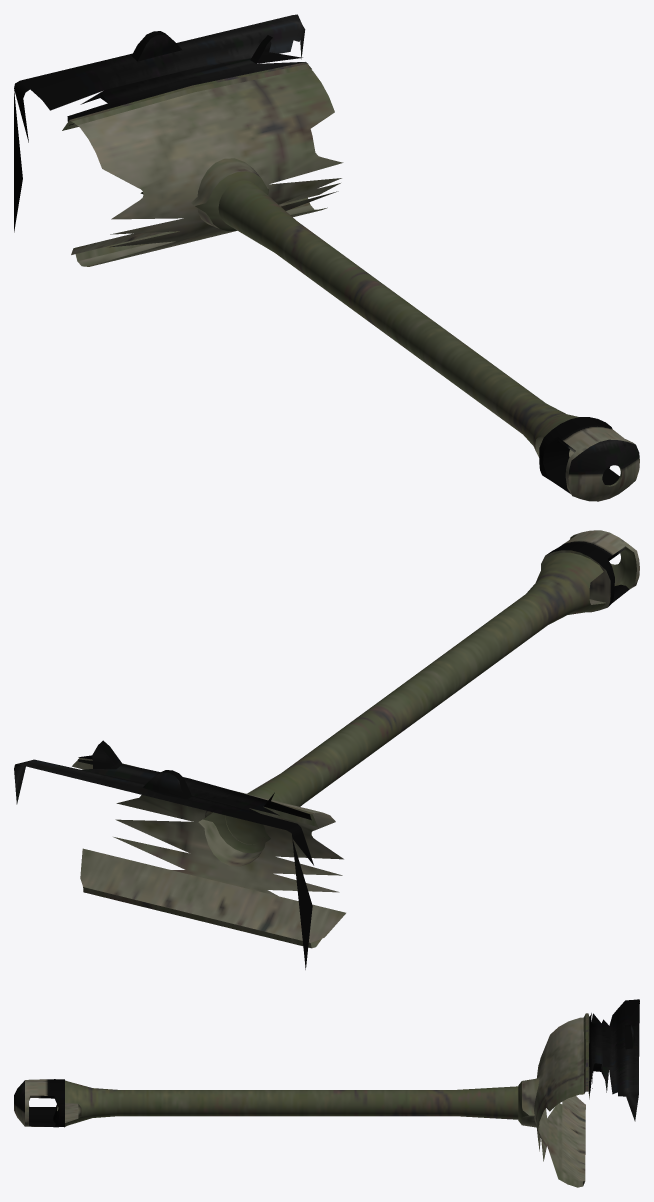
File: pershing_turret_m5.obj
3 views of the same model, one above another, from view 1: azimuth 30°, elevation 25°; view 2: azimuth 150°, elevation 25°; view 3: azimuth 270°, elevation 25° (orthographic). The views are drawn at different scales.
Visible parts, largest first — view 1: pershing_turret_m5; view 2: pershing_turret_m5; view 3: pershing_turret_m5.
Part boxes in pixels (box(x1,y1,x2,y2)): pershing_turret_m5: box(14, 14, 639, 501); pershing_turret_m5: box(14, 530, 639, 969); pershing_turret_m5: box(14, 999, 639, 1187).
Size of the model in its own units: 1.5 by 0.8804 by 4.12.
Materials: 1 (1 with a texture image).
